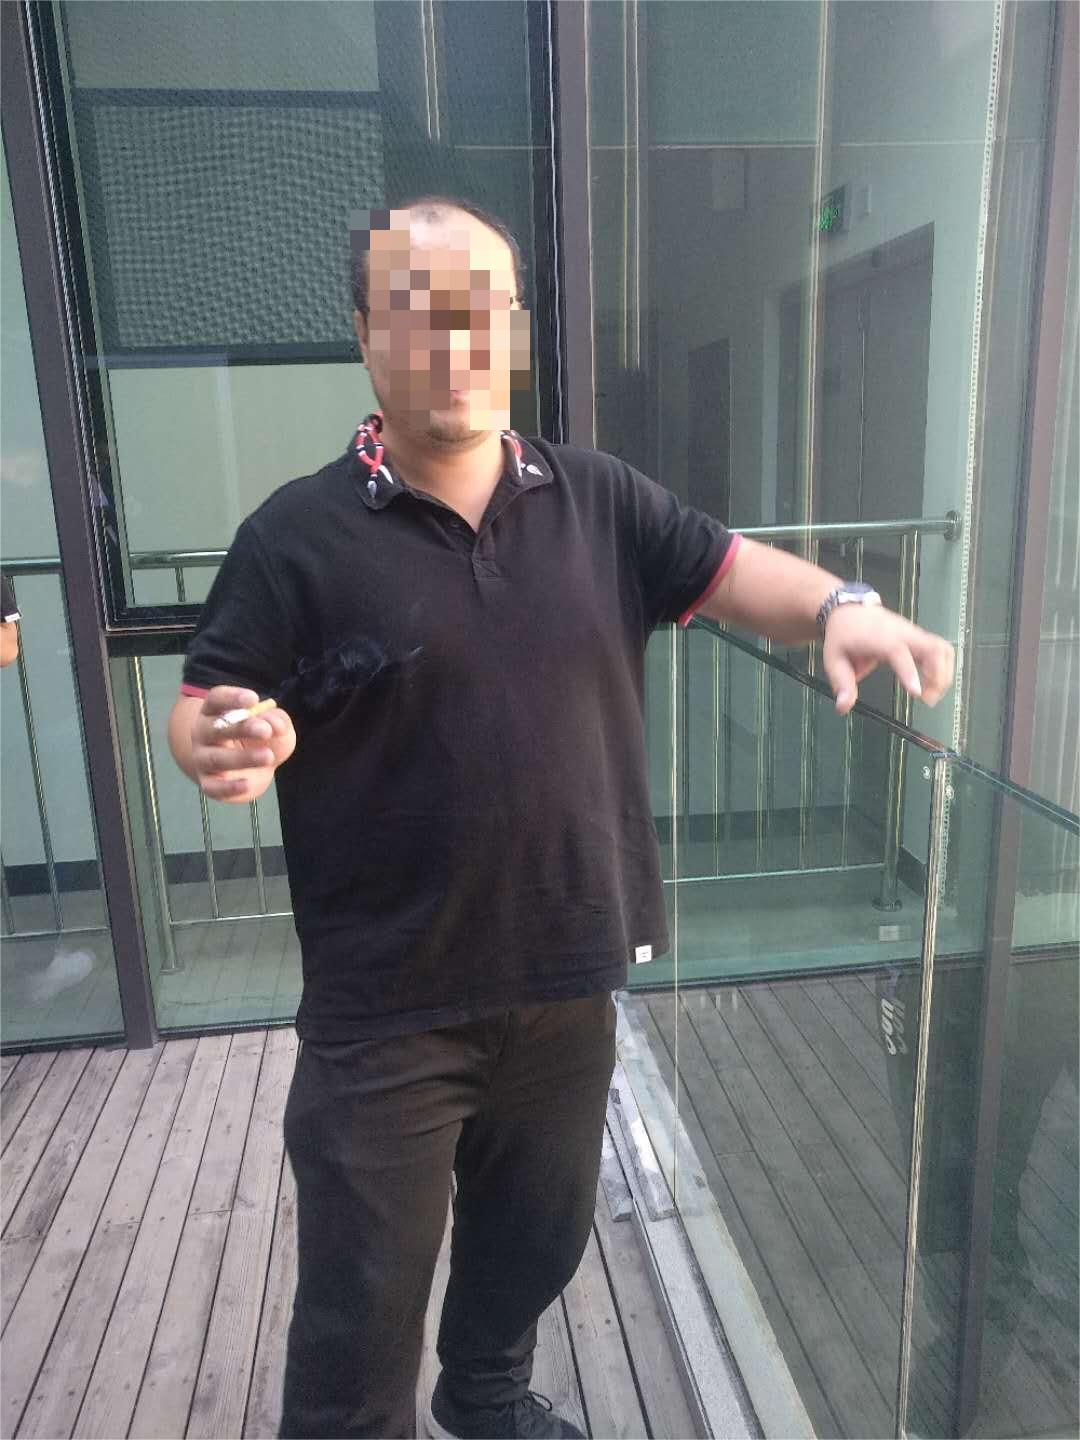smoke: (209, 696, 279, 730)
